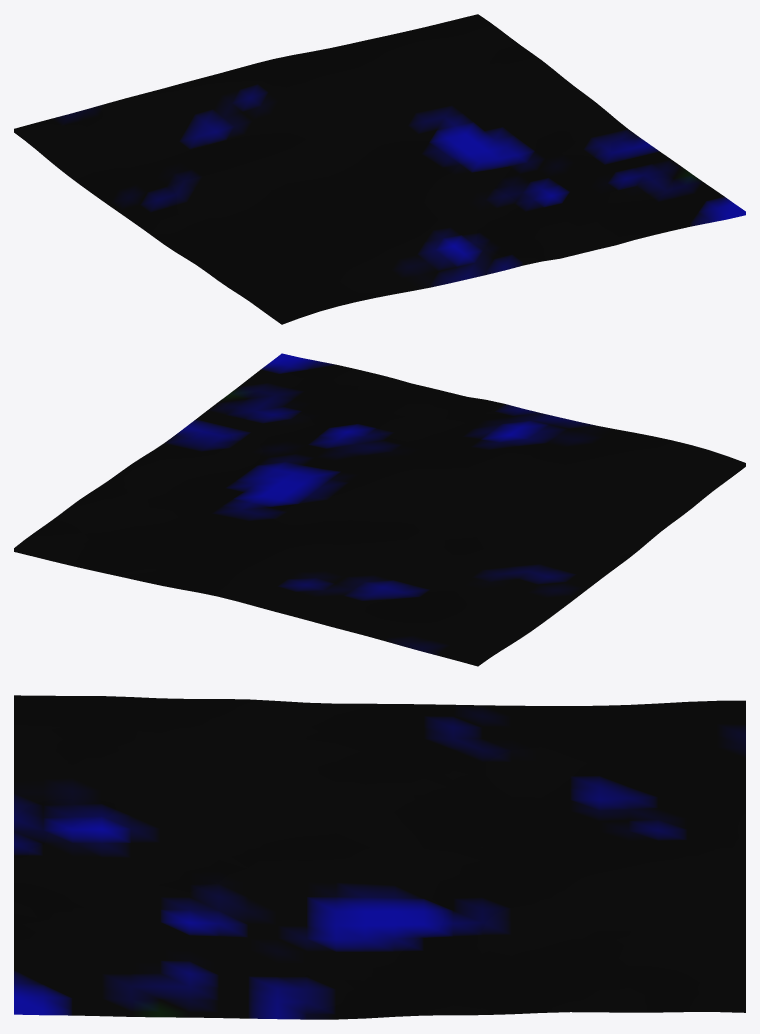
File: coast_11_7.glb
3 renders of one model, top to bottom at view 1: azimuth 30°, elevation 25°; view 2: azimuth 150°, elevation 25°; view 3: azimuth 270°, elevation 25°, orthographic. The views are drawn at different scales.
Parts seen in each view (by area): view 1: terrain; view 2: terrain; view 3: terrain.
Part boxes in pixels (x1,y1,x2,y2): terrain: (14, 14, 745, 324); terrain: (14, 353, 745, 666); terrain: (14, 695, 745, 1019).
Bounding box in the file's own units: 200 × 6.7 × 200.
